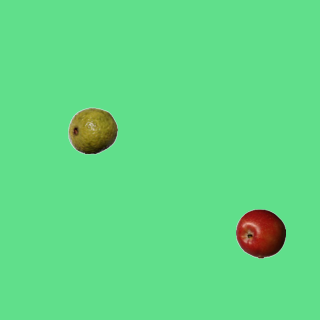Apple Braeburn: (235, 208, 285, 258)
Guava: (67, 105, 117, 155)
